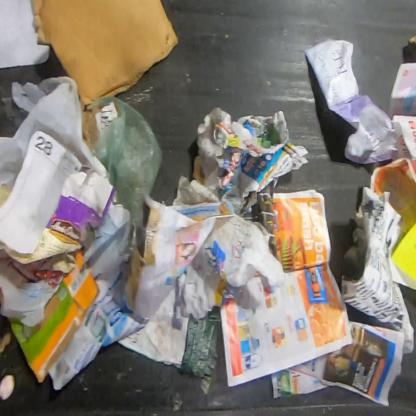cardboard: (32, 0, 179, 110), (0, 164, 116, 274), (9, 247, 100, 384), (81, 102, 120, 152), (0, 184, 14, 209)
soft_plastic: (0, 76, 110, 187), (85, 96, 163, 248)
